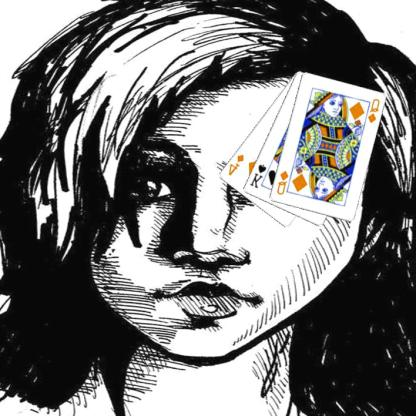4D: (227, 151, 247, 177)
KS: (249, 162, 269, 190)
QD: (275, 168, 292, 196), (366, 96, 382, 124)
